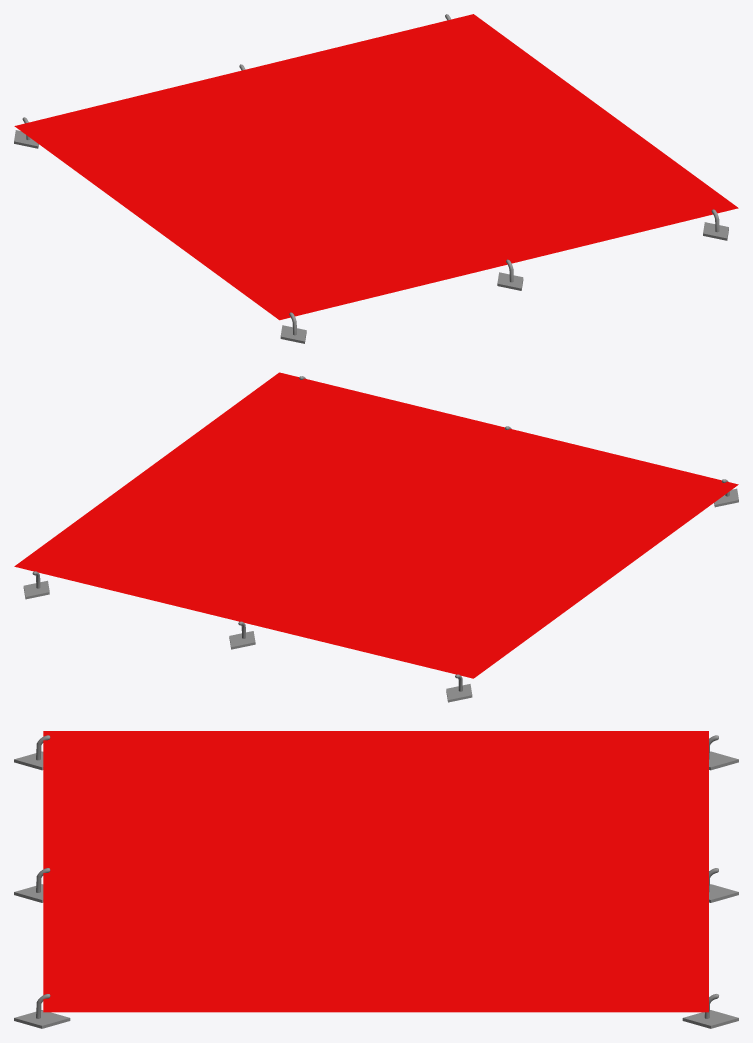
3 renders of one model, top to bottom at view 1: azimuth 30°, elevation 25°; view 2: azimuth 150°, elevation 25°; view 3: azimuth 270°, elevation 25°, orthographic. The views are drawn at different scales.
Visible parts, largest first — view 1: Grid; view 2: Grid; view 3: Grid.
Part boxes in pixels (<box>): Grid: <box>14,14,738,343</box>; Grid: <box>14,372,738,702</box>; Grid: <box>14,731,738,1028</box>.
Bounding box in the file's own units: 643 × 28.62 × 700.
